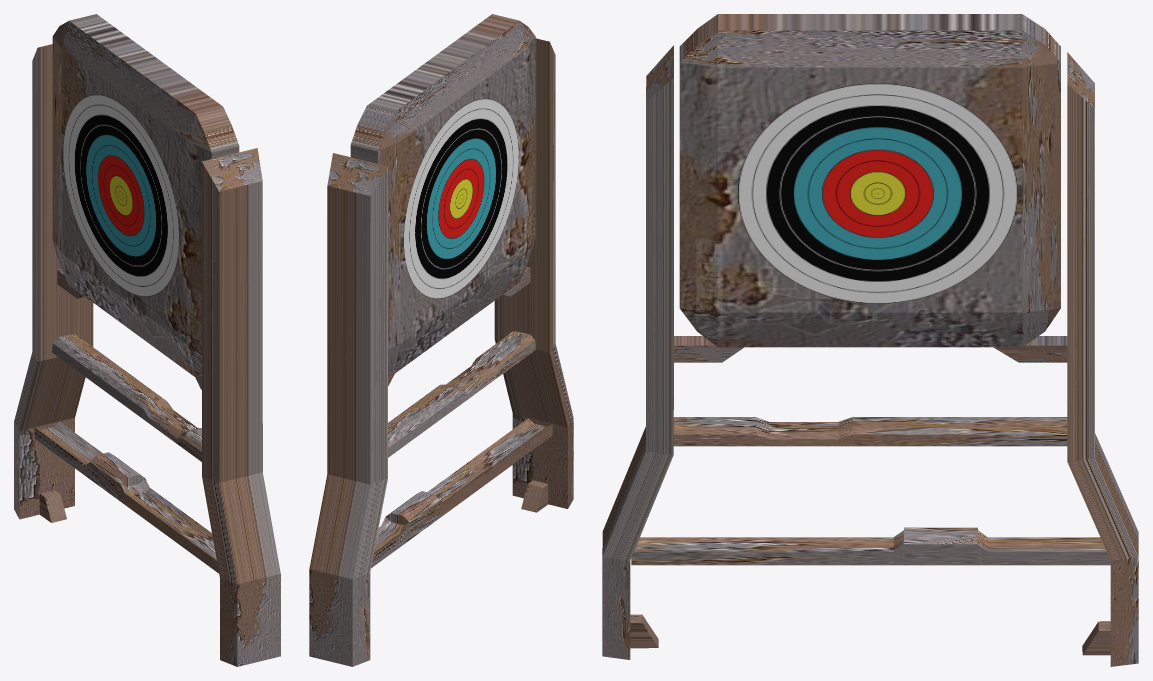
The model's file is tartget.fbx.
The picture shows the model from 3 angles, left to right: view 1: azimuth 30°, elevation 25°; view 2: azimuth 150°, elevation 25°; view 3: azimuth 270°, elevation 25°; orthographic projection. The views are drawn at different scales.
Parts seen in each view (by area): view 1: Cube, Plane001; view 2: Cube, Plane001; view 3: Cube, Plane002.
Part boxes in pixels (x1,y1,x2,y2): Cube: [14, 14, 280, 666]; Plane001: [63, 94, 179, 296]; Cube: [309, 14, 573, 666]; Plane001: [403, 98, 518, 298]; Cube: [602, 14, 1138, 666]; Plane002: [738, 83, 1017, 303].
Size of the model in its own units: 55.21 by 491 by 380.
